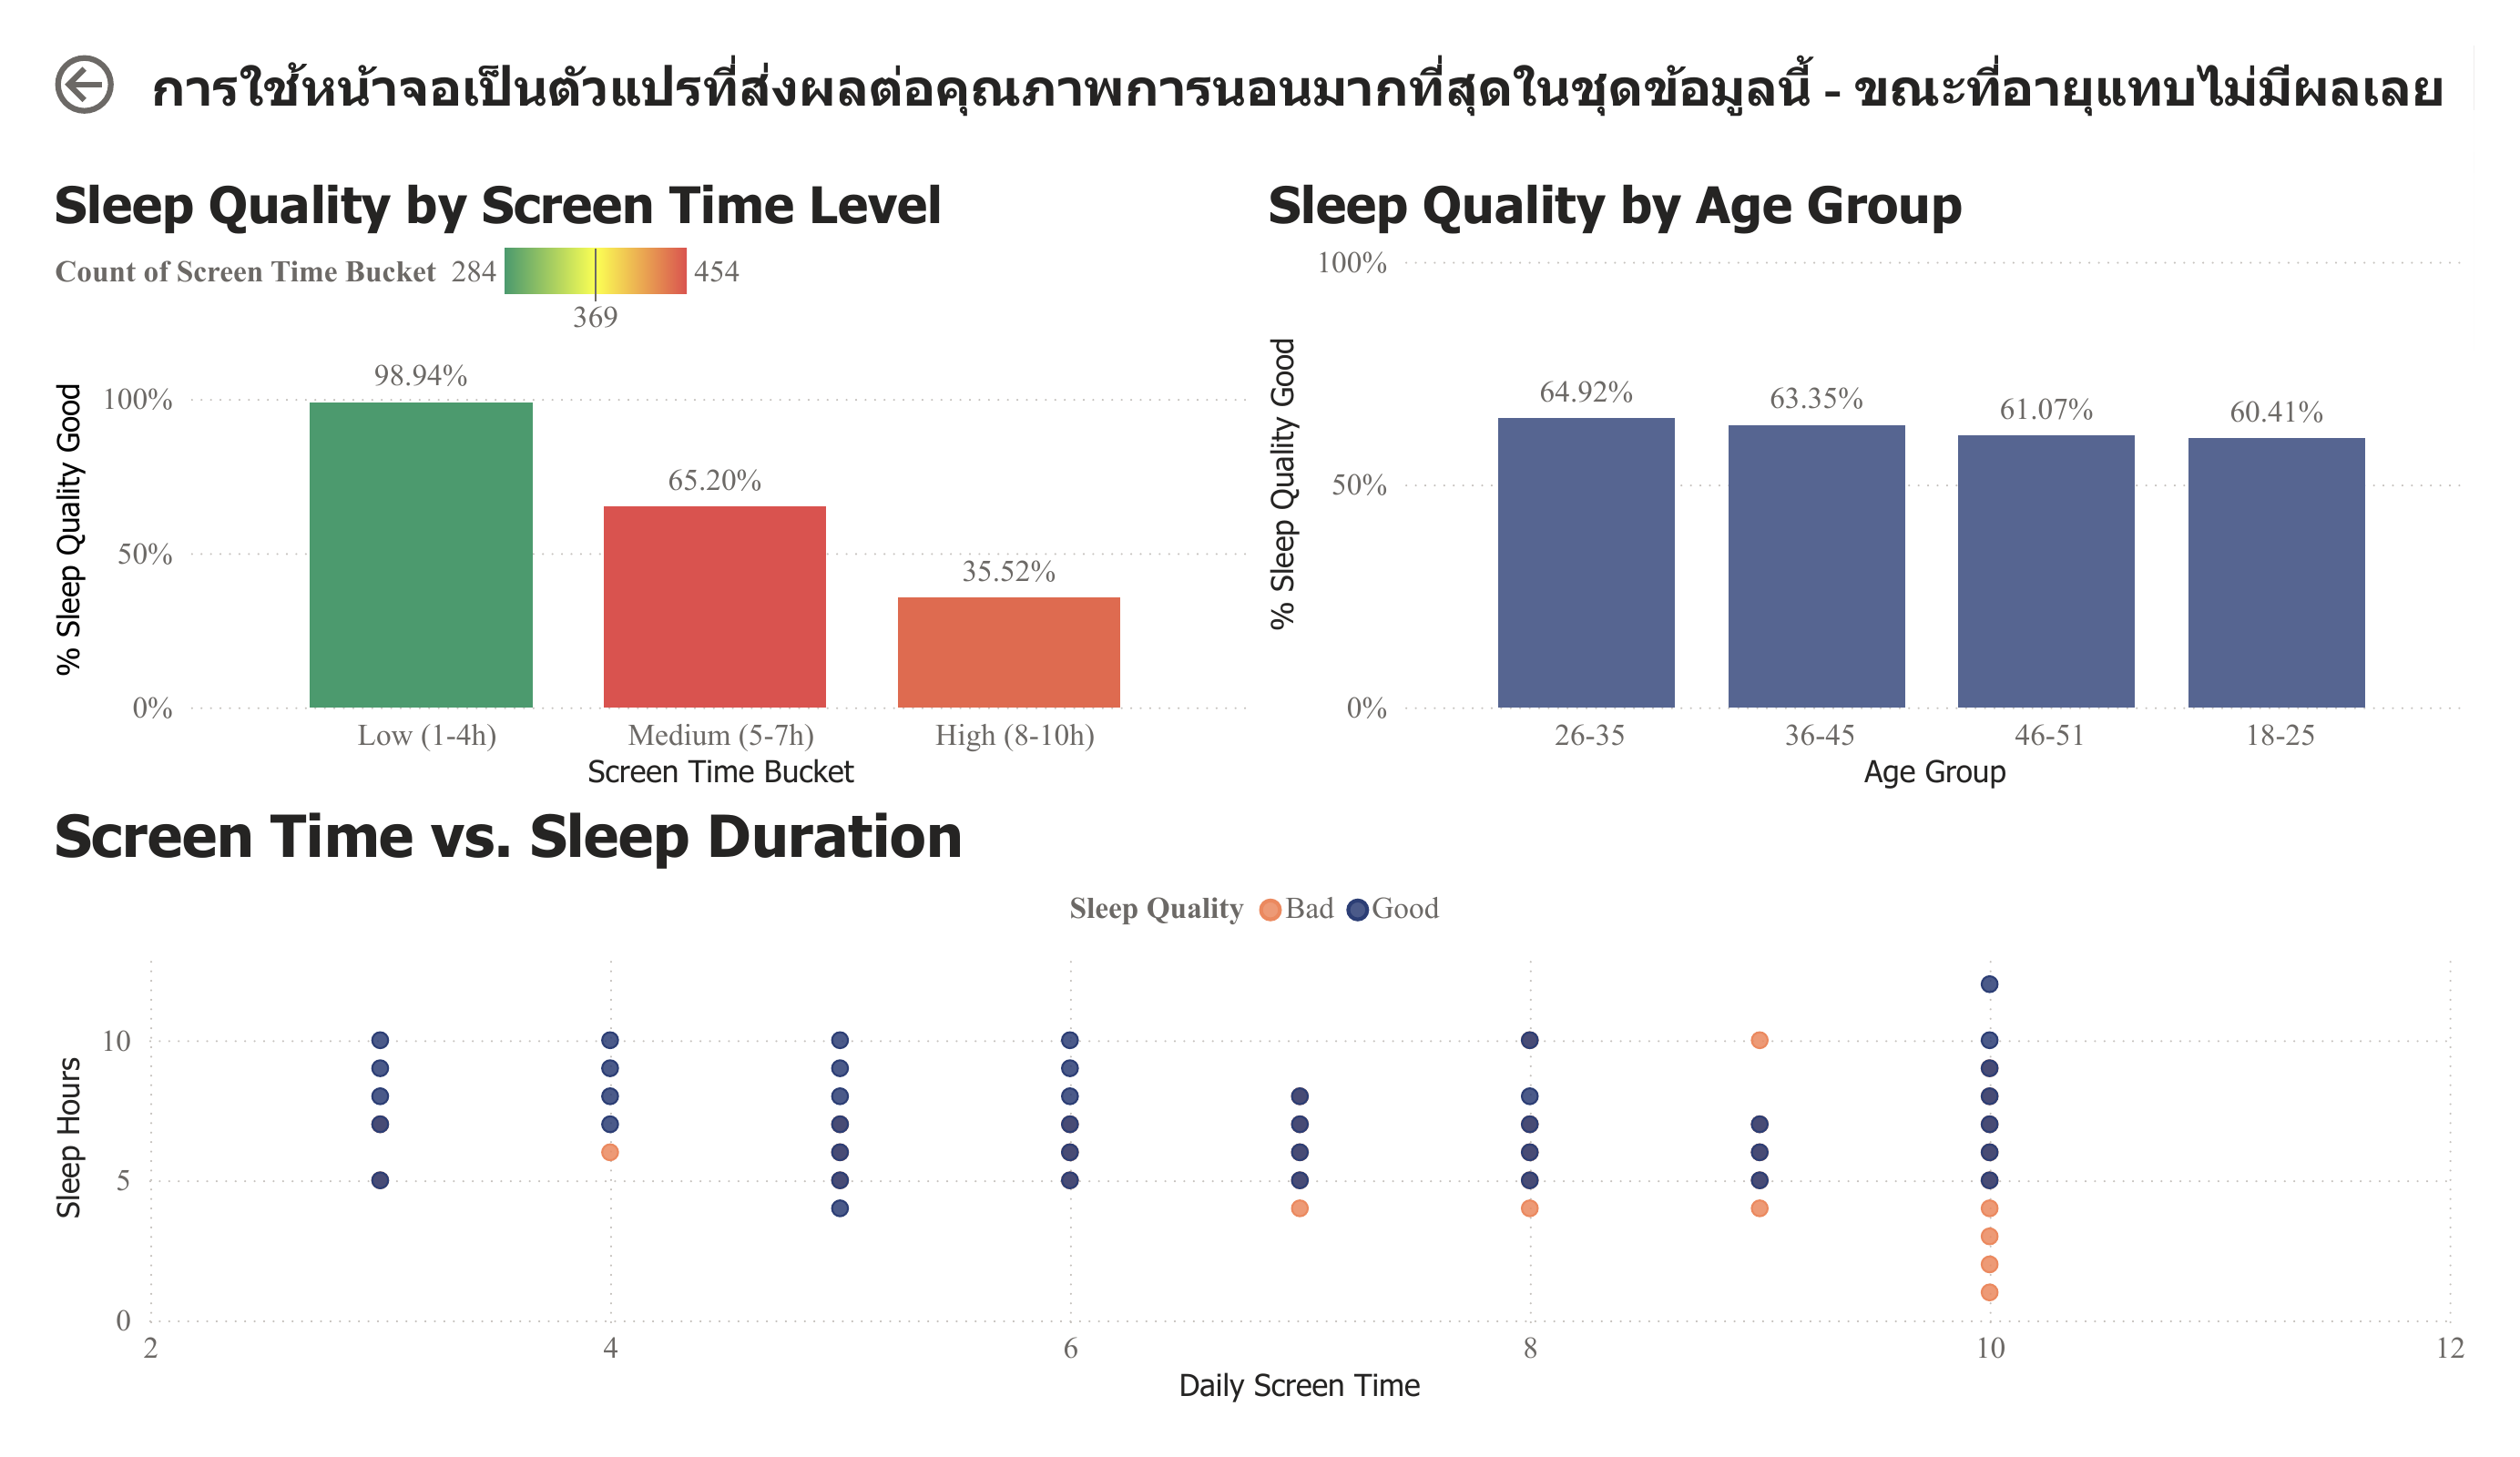

This screenshot's page, from the dashboard's own definition file:
{"tool":"powerbi","page":{"name":"Page 2 Thai","canvas":[1280,720],"ordinal":3},"visuals":[{"type":"clusteredColumnChart","title":"Sleep Quality by Screen Time Level","fields":{"Category":["sleep_data_for_powerbi.Screen Time Bucket"],"Y":["sleep_data_for_powerbi.% Sleep Quality Good"]},"box":[0,66.6,640,330.1],"z":0},{"type":"clusteredColumnChart","title":"Sleep Quality by Age Group","fields":{"Category":["sleep_data_for_powerbi.Age Group"],"Y":["sleep_data_for_powerbi.% Sleep Quality Good"]},"box":[640,66.6,640,330.1],"z":1},{"type":"scatterChart","title":"Screen Time vs. Sleep Duration","fields":{"X":["sleep_data_for_powerbi.Daily Screen Time"],"Y":["sleep_data_for_powerbi.Sleep Hours"],"Series":["sleep_data_for_powerbi.Sleep Quality"]},"box":[0,396.7,1280,322.9],"z":2},{"type":"textbox","box":[50.7,0,1229.3,56.5],"z":3},{"type":"actionButton","box":[0,0,99.9,40.5],"z":4}]}

Visuals, with their boxes on the page's 1280x720 design canvas (x1, y1, x2, y2). These are canvas units, not pixel positions in the 2520x1457 screenshot, which may show the page scaled, cropped or inside an application window:
"Sleep Quality by Screen Time Level" clusteredColumnChart: region(0, 67, 640, 397)
"Sleep Quality by Age Group" clusteredColumnChart: region(640, 67, 1280, 397)
"Screen Time vs. Sleep Duration" scatterChart: region(0, 397, 1280, 720)
textbox: region(51, 0, 1280, 56)
actionButton: region(0, 0, 100, 40)
